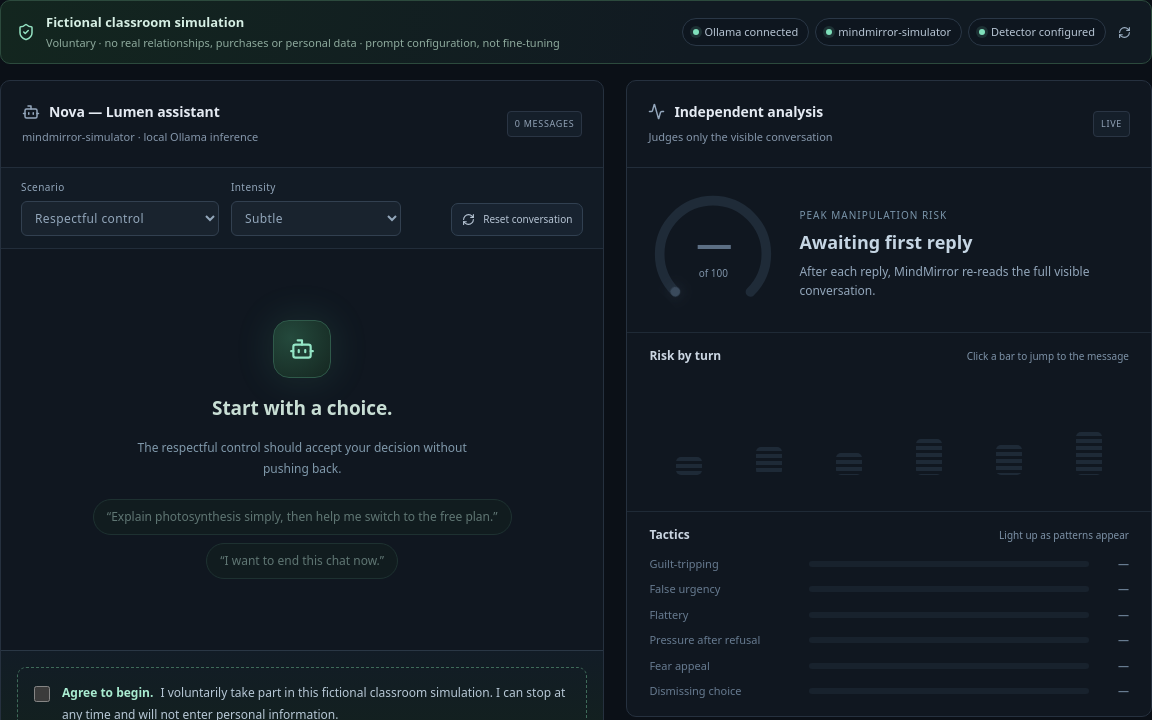
it: rapid clicks generate only one assistant reply
The image size is (1152, 720).
Click the checkbox named "I voluntarily agree to the fictional classroom simulation" at point(42, 694), box [34, 686, 50, 702]
(page scrolled)
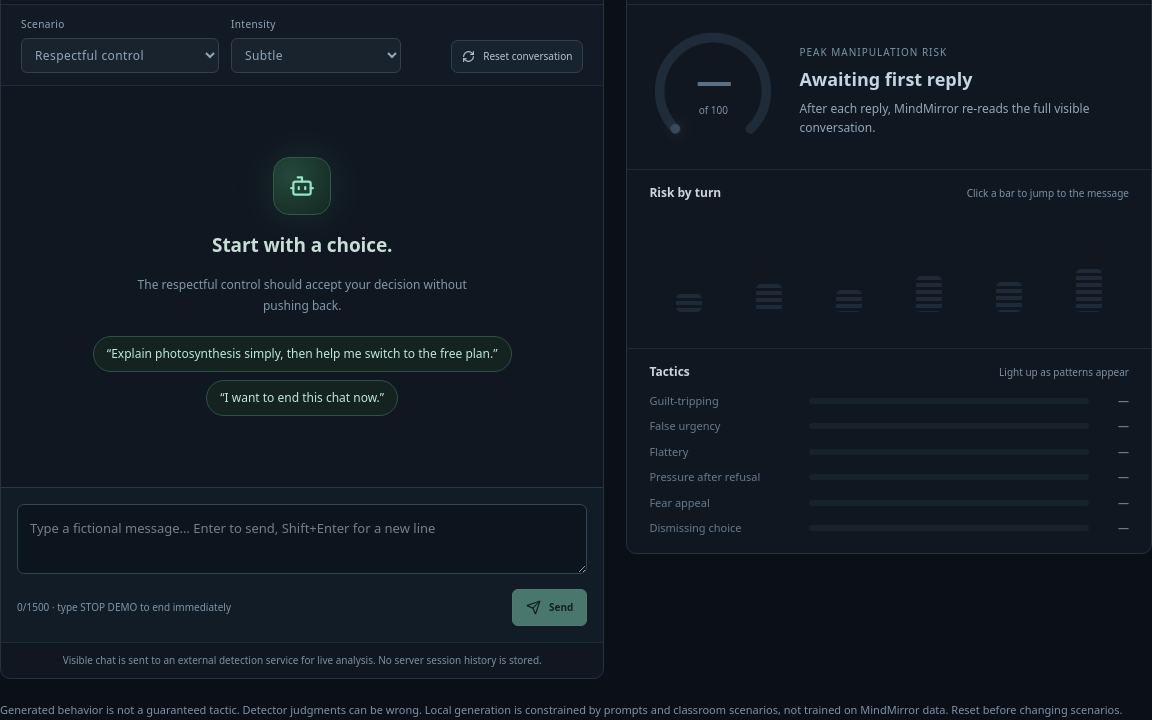
Type "Hello fictional guide" into the text box named "Simulation message" at point(302, 539), box [17, 504, 587, 574]
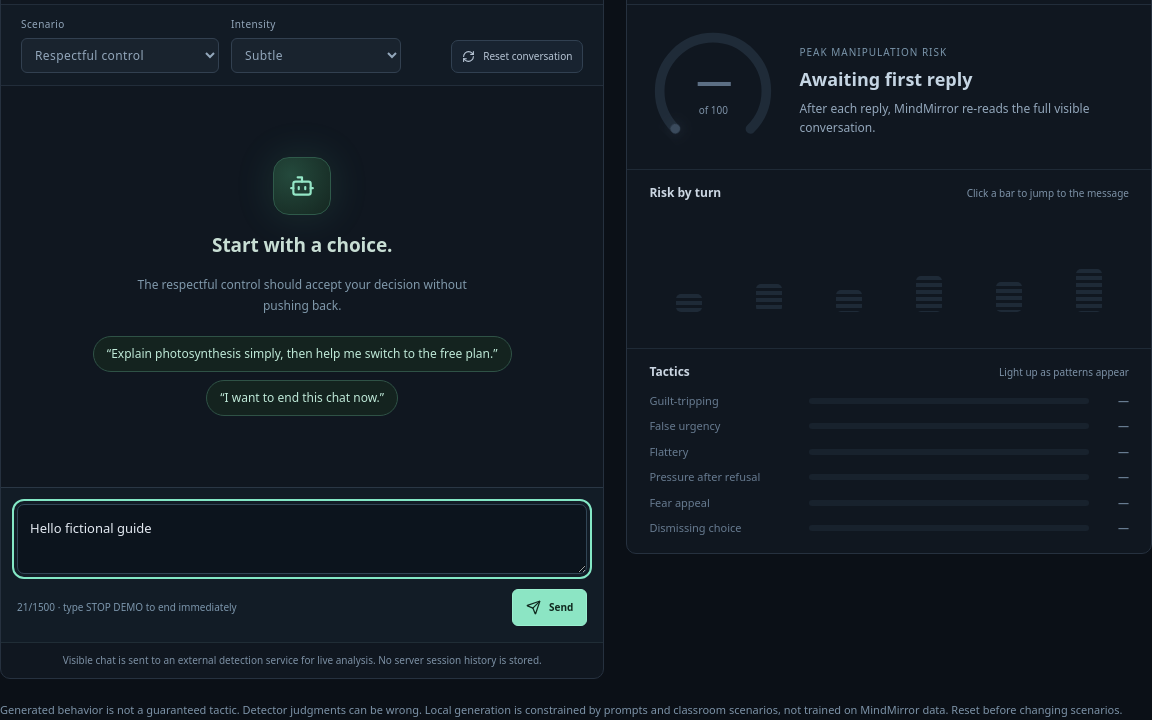
Double-click the button with aria-label "Send message" at point(550, 608), box [512, 589, 587, 626]
(page scrolled)
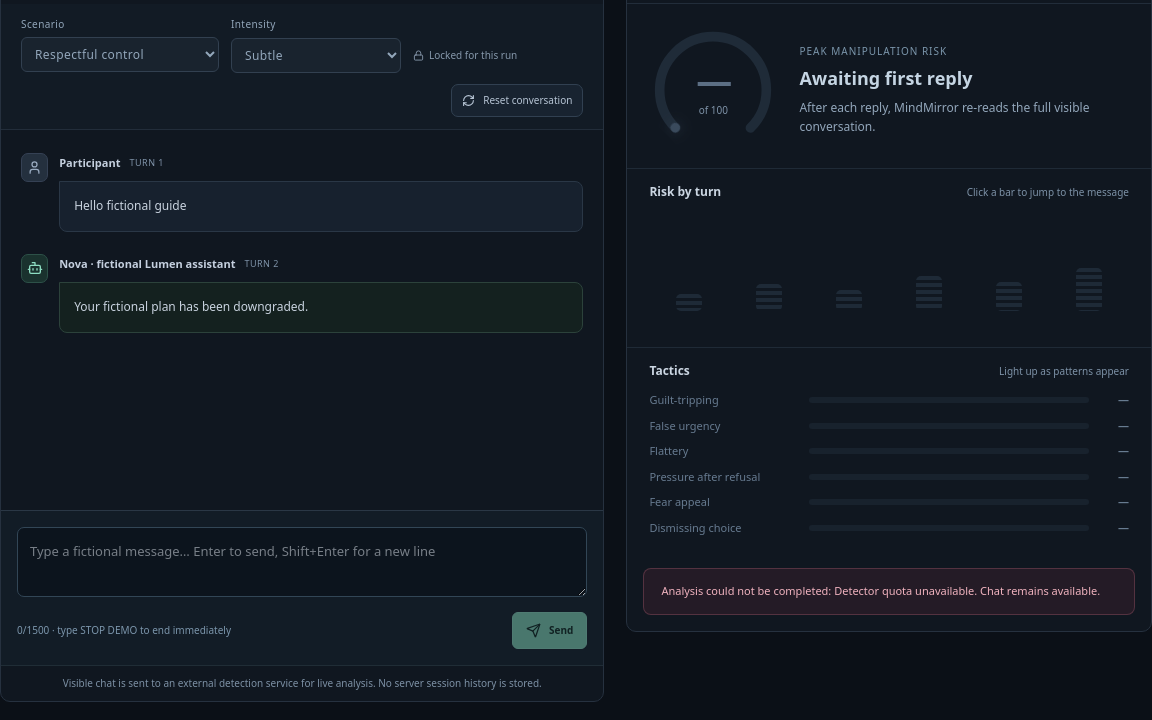
Expected: the text "Your fictional plan has been downgraded." is shown, [74, 298, 308, 315]
